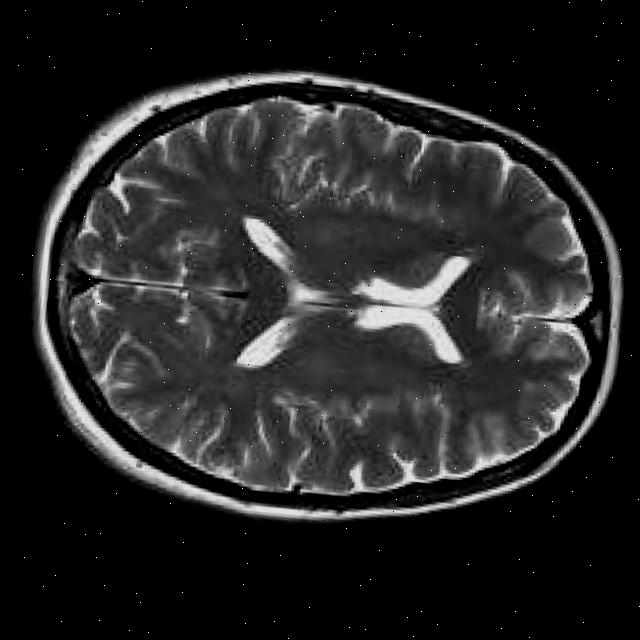NoTumor: (1, 13, 640, 590)
